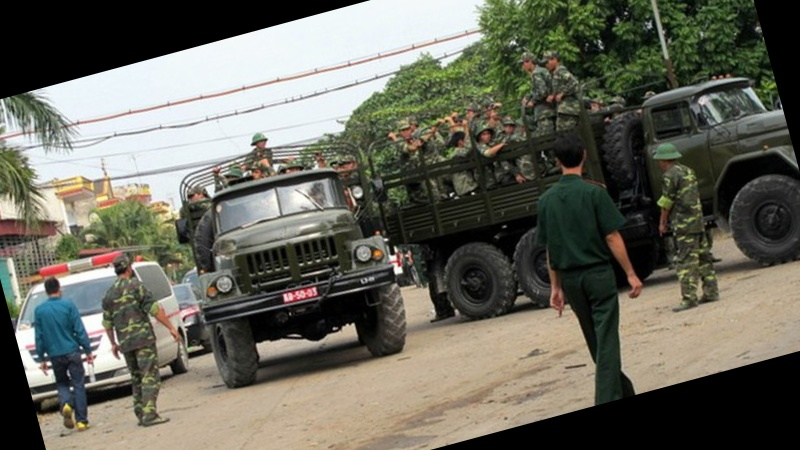plate: (280, 282, 320, 301)
